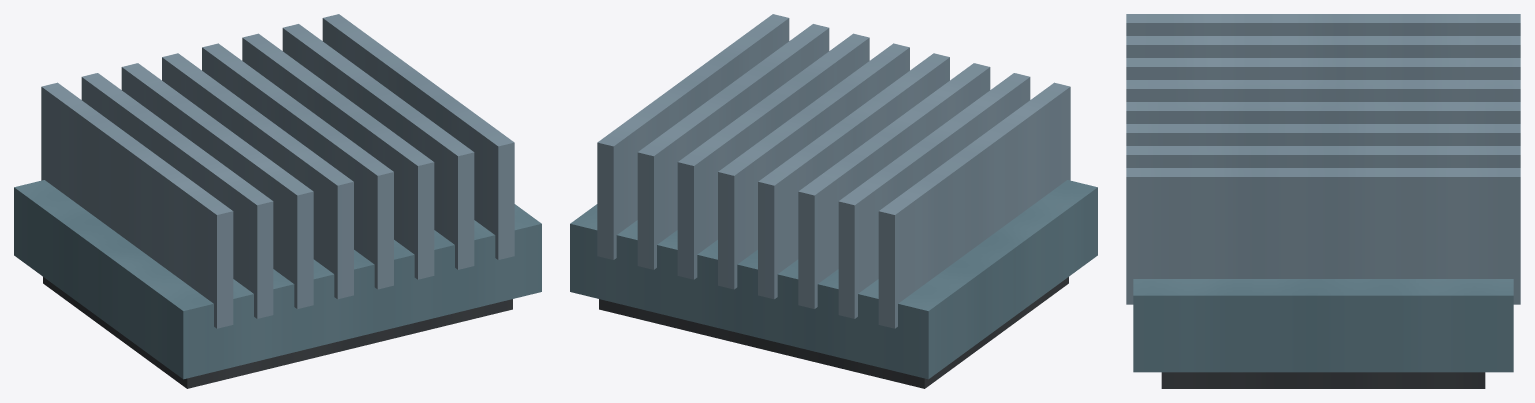
File: 336_L122_HS3_HeatSink.obj
3 views of the same model, side by side, from view 1: azimuth 30°, elevation 25°; view 2: azimuth 150°, elevation 25°; view 3: azimuth 270°, elevation 25° (orthographic). The views are drawn at different scales.
Visible parts, largest first — view 1: 336_L122_HS3_HeatSink__PSMAT__heatsink, 336_L122_HS3_HeatSink__PSMAT__aluminum_dark, 336_L122_HS3_HeatSink__PSMAT__graphite; view 2: 336_L122_HS3_HeatSink__PSMAT__heatsink, 336_L122_HS3_HeatSink__PSMAT__aluminum_dark, 336_L122_HS3_HeatSink__PSMAT__graphite; view 3: 336_L122_HS3_HeatSink__PSMAT__heatsink, 336_L122_HS3_HeatSink__PSMAT__aluminum_dark, 336_L122_HS3_HeatSink__PSMAT__graphite.
Boxes of the visible parts, x1,y1,x2,y2 form: 336_L122_HS3_HeatSink__PSMAT__heatsink: [41, 14, 514, 328]; 336_L122_HS3_HeatSink__PSMAT__aluminum_dark: [14, 180, 541, 379]; 336_L122_HS3_HeatSink__PSMAT__graphite: [43, 277, 512, 388]; 336_L122_HS3_HeatSink__PSMAT__heatsink: [597, 14, 1070, 328]; 336_L122_HS3_HeatSink__PSMAT__aluminum_dark: [570, 180, 1097, 379]; 336_L122_HS3_HeatSink__PSMAT__graphite: [599, 277, 1068, 388]; 336_L122_HS3_HeatSink__PSMAT__heatsink: [1126, 14, 1520, 304]; 336_L122_HS3_HeatSink__PSMAT__aluminum_dark: [1133, 279, 1513, 372]; 336_L122_HS3_HeatSink__PSMAT__graphite: [1161, 372, 1485, 388].
Bounding box in the file's own units: 0.033 × 0.016 × 0.028.
3 materials, 3 textured.
